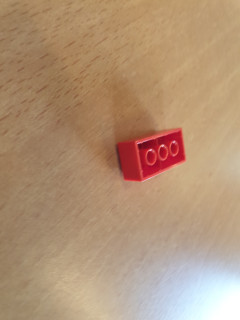2x4 red: (116, 127, 188, 182)
